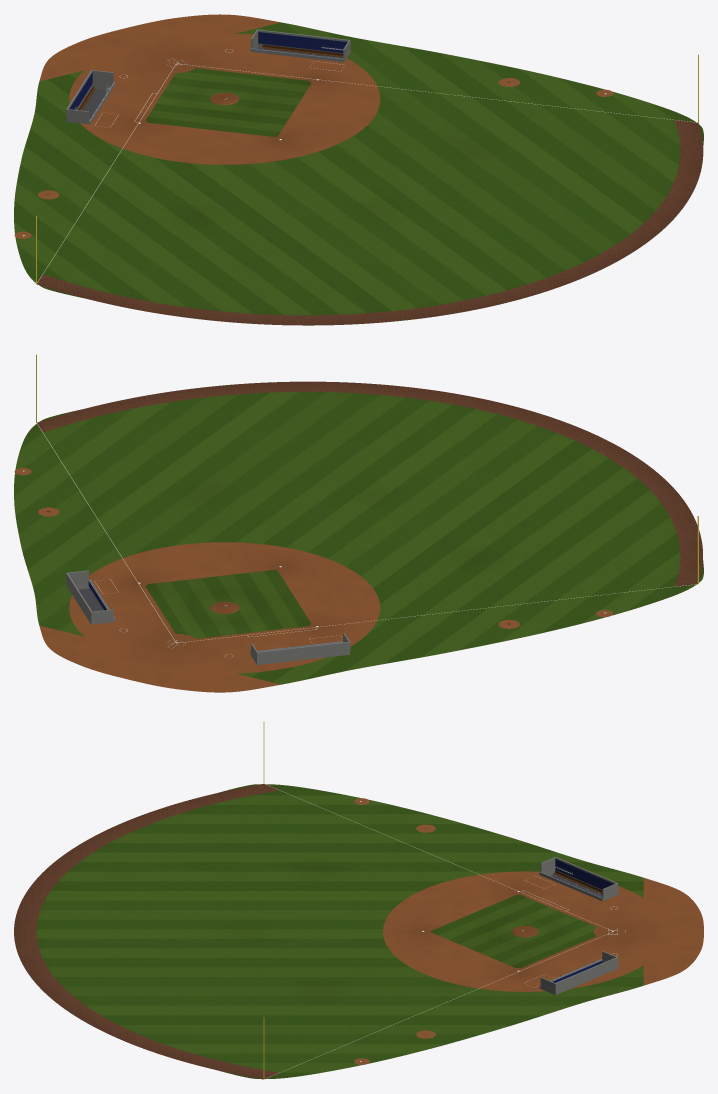
The model's file is field.glb.
The picture shows the model from 3 angles, top to bottom: view 1: azimuth 30°, elevation 25°; view 2: azimuth 150°, elevation 25°; view 3: azimuth 270°, elevation 25°; orthographic projection. The views are drawn at different scales.
Visible parts, largest first — view 1: Grass_Outfield, Dirt, WarningTrack, Grass_Infield, Dugout_3B_Padding, Dugout_1B, Dirt_Cutouts, Dugout_3B, Chalk; view 2: Grass_Outfield, Dirt, WarningTrack, Grass_Infield, Dugout_1B, Dugout_3B, Dirt_Cutouts, Chalk; view 3: Grass_Outfield, Dirt, WarningTrack, Grass_Infield, Dugout_3B, Dugout_1B, Dirt_Cutouts, Chalk, Dugout_1B_Padding.
Boxes of the visible parts, <box> form: Grass_Outfield: <box>14,22,703,325</box>; Dirt: <box>39,14,380,164</box>; WarningTrack: <box>37,120,703,325</box>; Grass_Infield: <box>145,68,311,136</box>; Dugout_3B_Padding: <box>258,32,347,52</box>; Dugout_1B: <box>66,70,114,124</box>; Dirt_Cutouts: <box>131,55,325,143</box>; Dugout_3B: <box>250,29,350,62</box>; Chalk: <box>37,49,696,283</box>; Grass_Outfield: <box>14,391,703,692</box>; Dirt: <box>39,542,380,692</box>; WarningTrack: <box>37,381,702,586</box>; Grass_Infield: <box>145,570,311,638</box>; Dugout_1B: <box>250,633,350,665</box>; Dugout_3B: <box>66,570,114,624</box>; Dirt_Cutouts: <box>131,563,325,651</box>; Chalk: <box>37,423,697,656</box>; Grass_Outfield: <box>36,784,643,1078</box>; Dirt: <box>383,871,703,991</box>; WarningTrack: <box>14,784,279,1079</box>; Grass_Infield: <box>431,895,596,968</box>; Dugout_3B: <box>539,951,618,994</box>; Dugout_1B: <box>539,857,618,901</box>; Dirt_Cutouts: <box>415,888,632,974</box>; Chalk: <box>264,783,625,1079</box>; Dugout_1B_Padding: <box>555,859,613,889</box>.
Bounding box in the file's own units: 142 × 15.35 × 140.
Materials: 13 (11 with a texture image).
